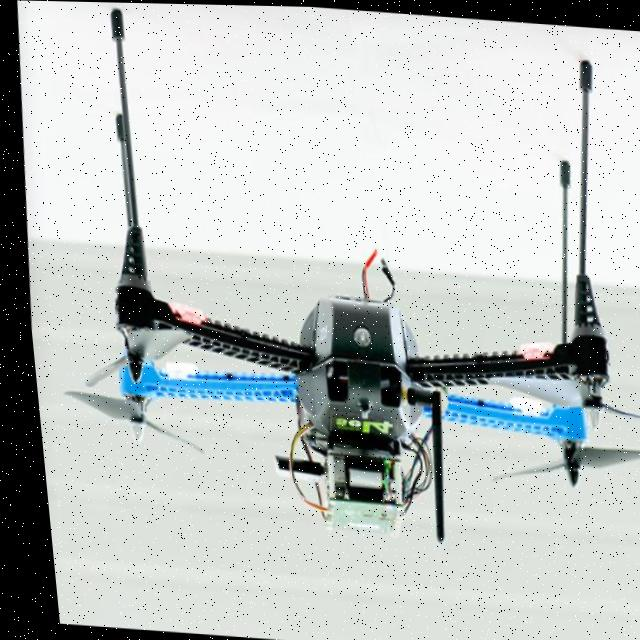drones: (21, 0, 640, 584)
